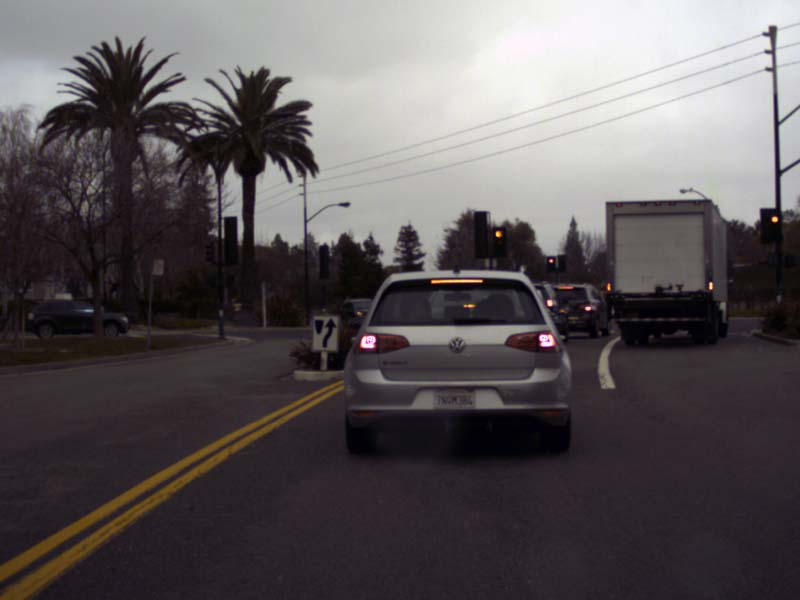Green: (557, 254, 565, 271)
Red: (767, 211, 782, 240), (492, 227, 506, 256), (545, 255, 554, 271)
